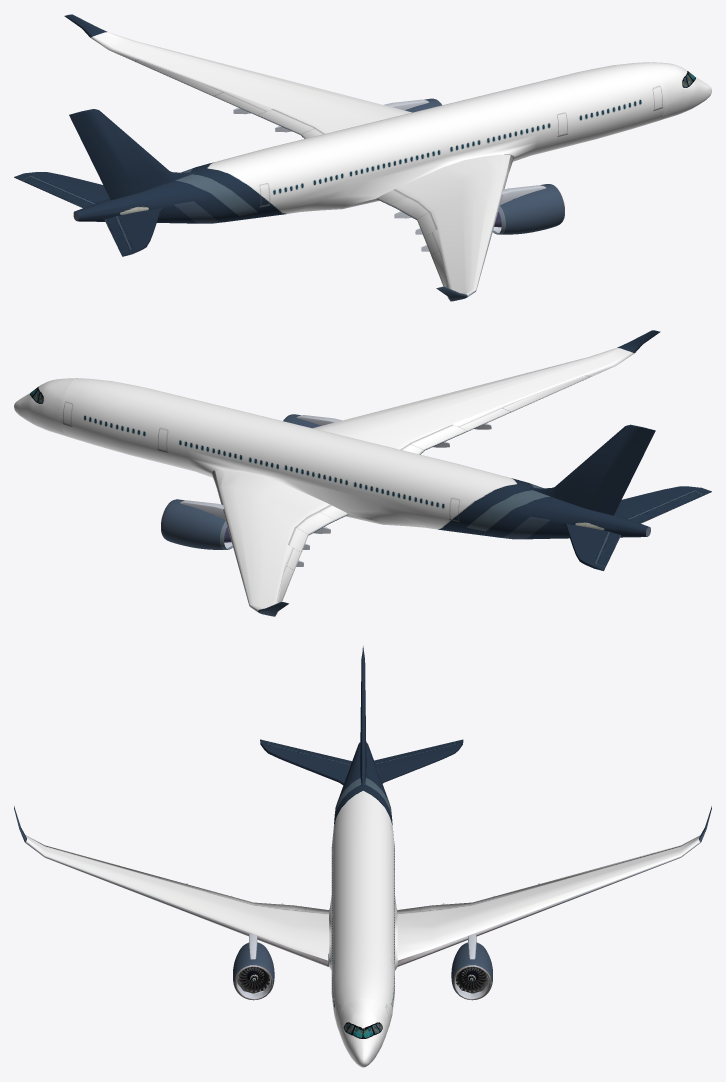
Rendered from avion.glb.
3 renders of one model, top to bottom at view 1: azimuth 30°, elevation 25°; view 2: azimuth 150°, elevation 25°; view 3: azimuth 270°, elevation 25°, orthographic. The views are drawn at different scales.
Parts seen in each view (by area): view 1: fuselage, aile_G, aile_D, derive, nacelle_D, cockpit, stabilisateur_G, stabilisateur_D; view 2: fuselage, aile_D, aile_G, derive, nacelle_G, cockpit, stabilisateur_D, stabilisateur_G; view 3: fuselage, aile_D, aile_G, cockpit, stabilisateur_D, stabilisateur_G, nacelle_G, nacelle_D, derive, soufflante_G, soufflante_D.
Boxes of the visible parts, x1,y1,x2,y2 form: fuselage: [73, 62, 665, 223]; aile_G: [64, 14, 411, 138]; aile_D: [376, 154, 514, 301]; derive: [69, 109, 195, 200]; nacelle_D: [492, 184, 564, 234]; cockpit: [648, 62, 711, 120]; stabilisateur_G: [14, 172, 109, 208]; stabilisateur_D: [104, 207, 163, 256]; fuselage: [60, 378, 650, 539]; aile_D: [313, 330, 660, 454]; aile_G: [211, 470, 348, 616]; derive: [529, 424, 655, 515]; nacelle_G: [161, 499, 232, 549]; cockpit: [14, 378, 76, 436]; stabilisateur_D: [615, 486, 711, 523]; stabilisateur_G: [564, 523, 620, 570]; fuselage: [329, 742, 397, 1028]; aile_D: [14, 806, 331, 966]; aile_G: [395, 806, 711, 966]; cockpit: [337, 997, 388, 1067]; stabilisateur_D: [260, 739, 351, 785]; stabilisateur_G: [374, 739, 463, 783]; nacelle_G: [451, 942, 492, 1000]; nacelle_D: [233, 942, 274, 1000]; derive: [360, 646, 366, 785]; soufflante_G: [456, 967, 488, 993]; soufflante_D: [237, 967, 269, 993].
Bounding box in the file's own units: 67.41 × 17.14 × 67.47.
Materials: 1 (1 with a texture image).
